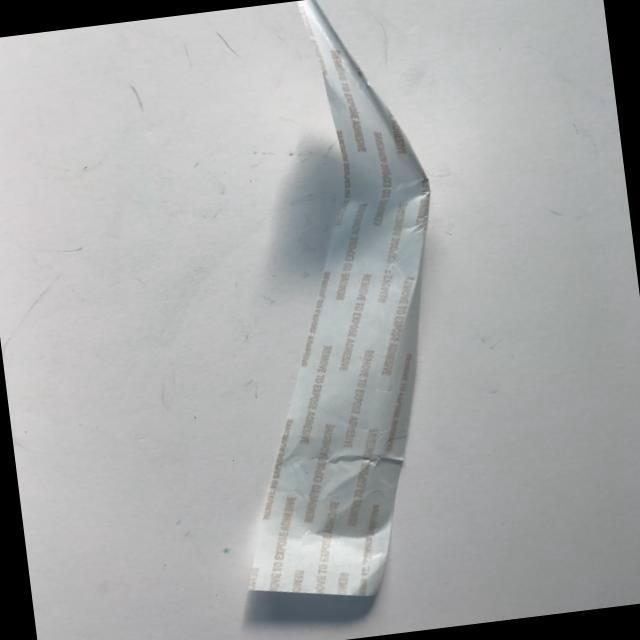paper: (159, 0, 482, 610)
